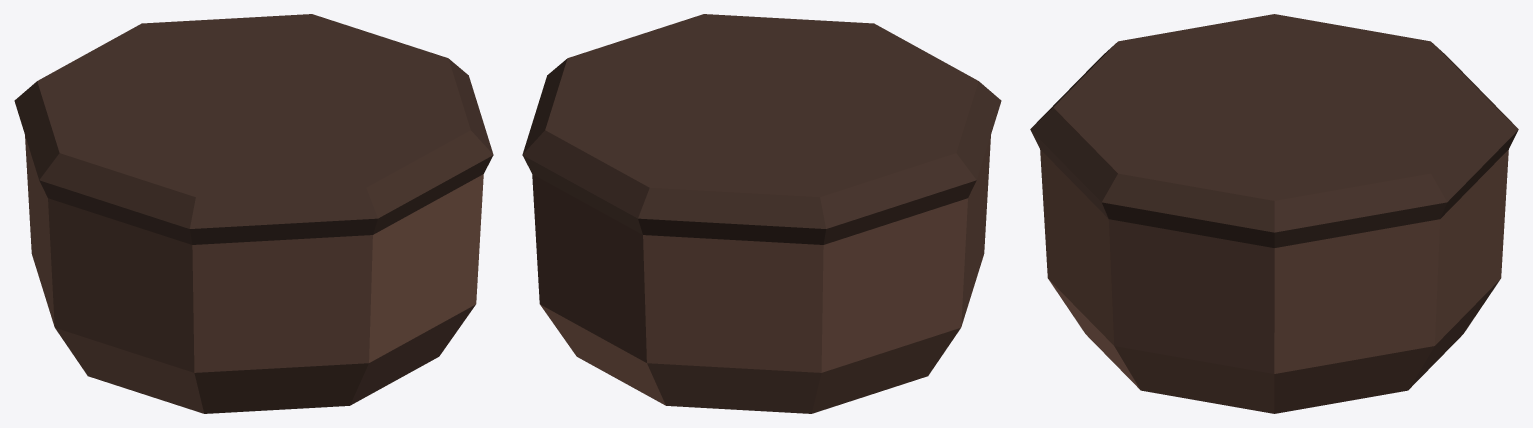
Rendered from Prop_ContainerB.fbx.
3 views of the same model, side by side, from view 1: azimuth 30°, elevation 25°; view 2: azimuth 150°, elevation 25°; view 3: azimuth 270°, elevation 25° (orthographic).
Visible parts, largest first — view 1: Prop_ContainerB; view 2: Prop_ContainerB; view 3: Prop_ContainerB.
Boxes of the visible parts, x1=… form: Prop_ContainerB: x1=14, y1=14, x2=493, y2=413; Prop_ContainerB: x1=522, y1=14, x2=1001, y2=413; Prop_ContainerB: x1=1030, y1=14, x2=1518, y2=413.
Bounding box in the file's own units: 32.71 × 16.74 × 32.71.
